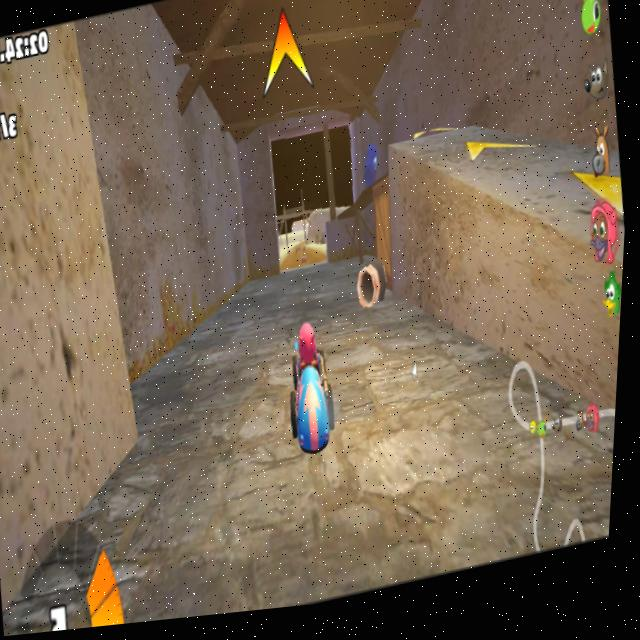enemy_kart: (274, 315, 351, 489)
power_up: (449, 130, 537, 204)
track: (156, 315, 294, 553), (283, 238, 330, 321)
